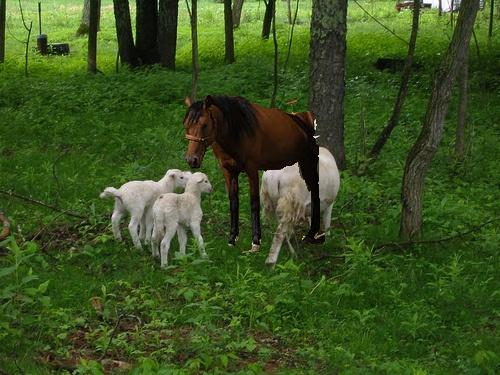tampered: (183, 96, 325, 253)
